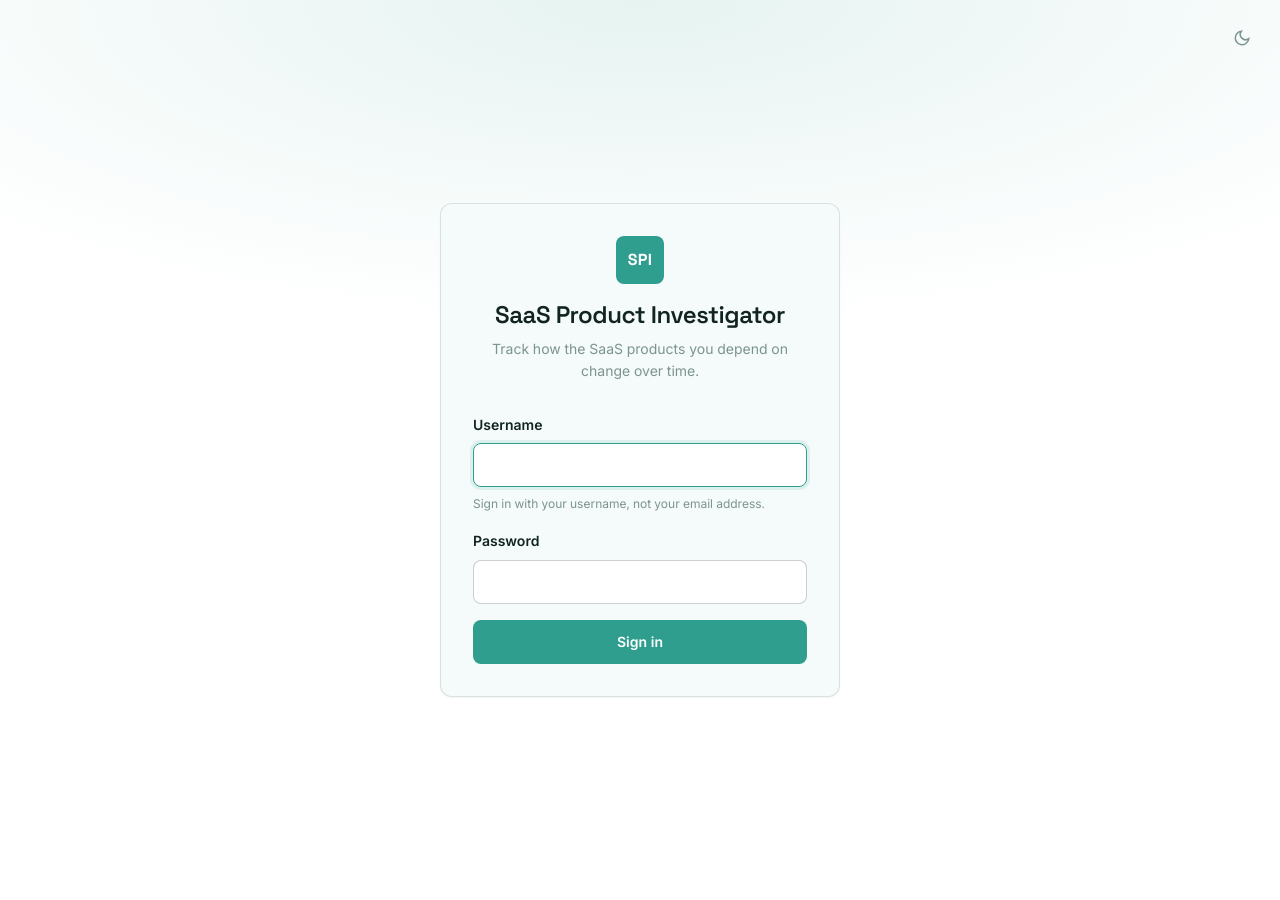
Test case: LoginPage › reports an unreachable backend in plain language
This screenshot has width=1280, height=900.
Type "admin" into the field labelled "Username".
click(640, 465); type("admin")  # box [473,443,807,487]
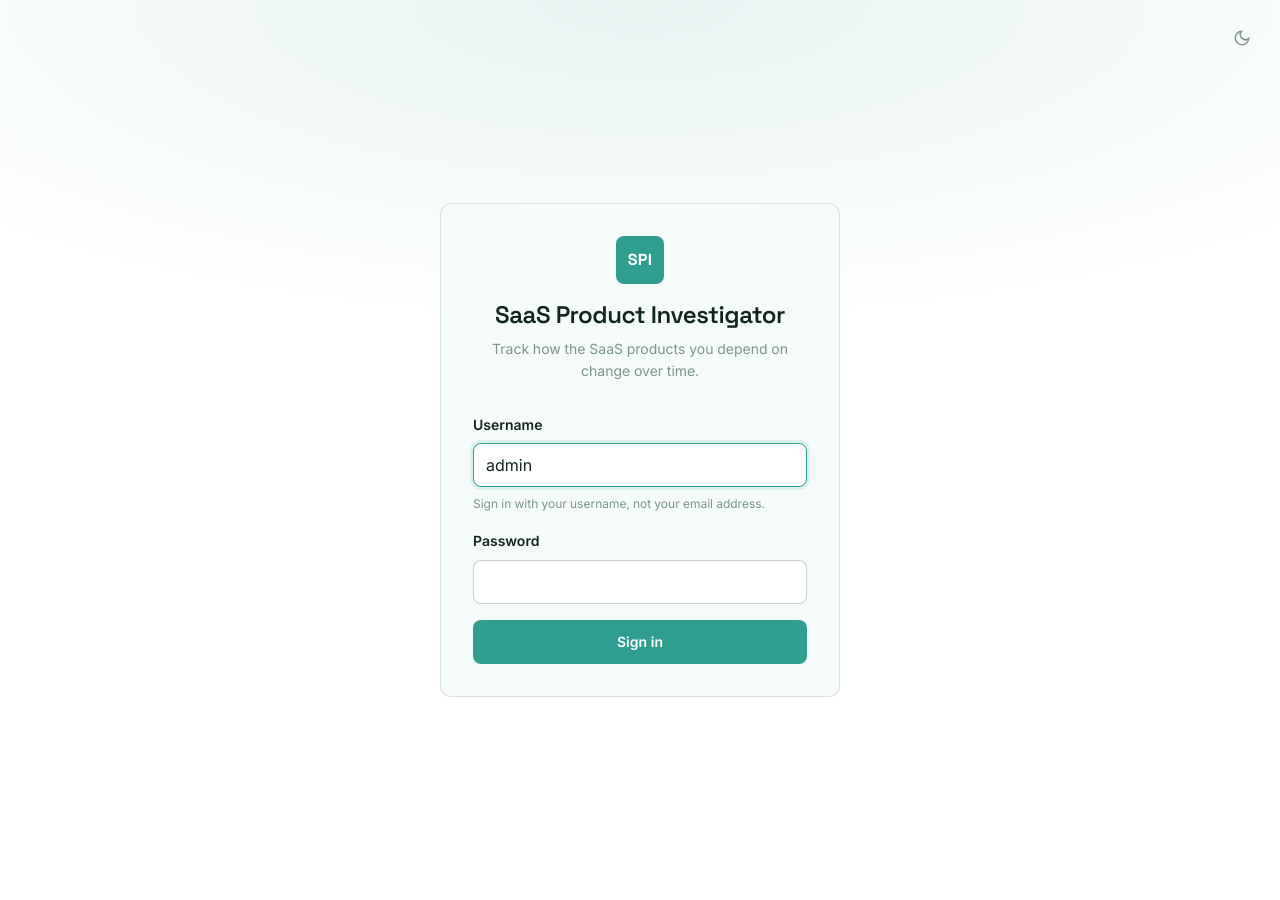
Type "admin" into the password field labelled "Password".
click(640, 582); type("admin")  # box [473,560,807,604]
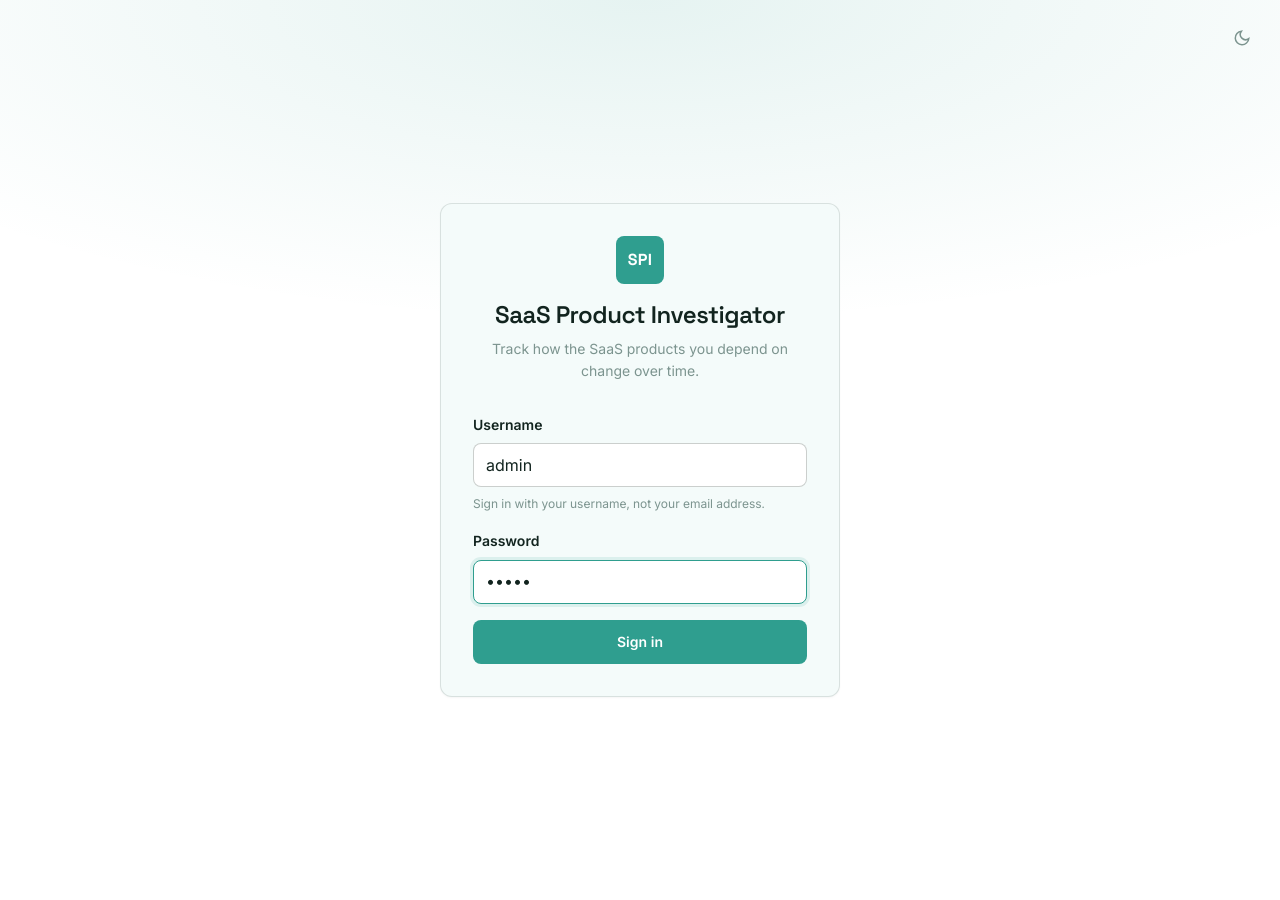
Click the button "Sign in".
click(640, 642)  # box [473,620,807,664]
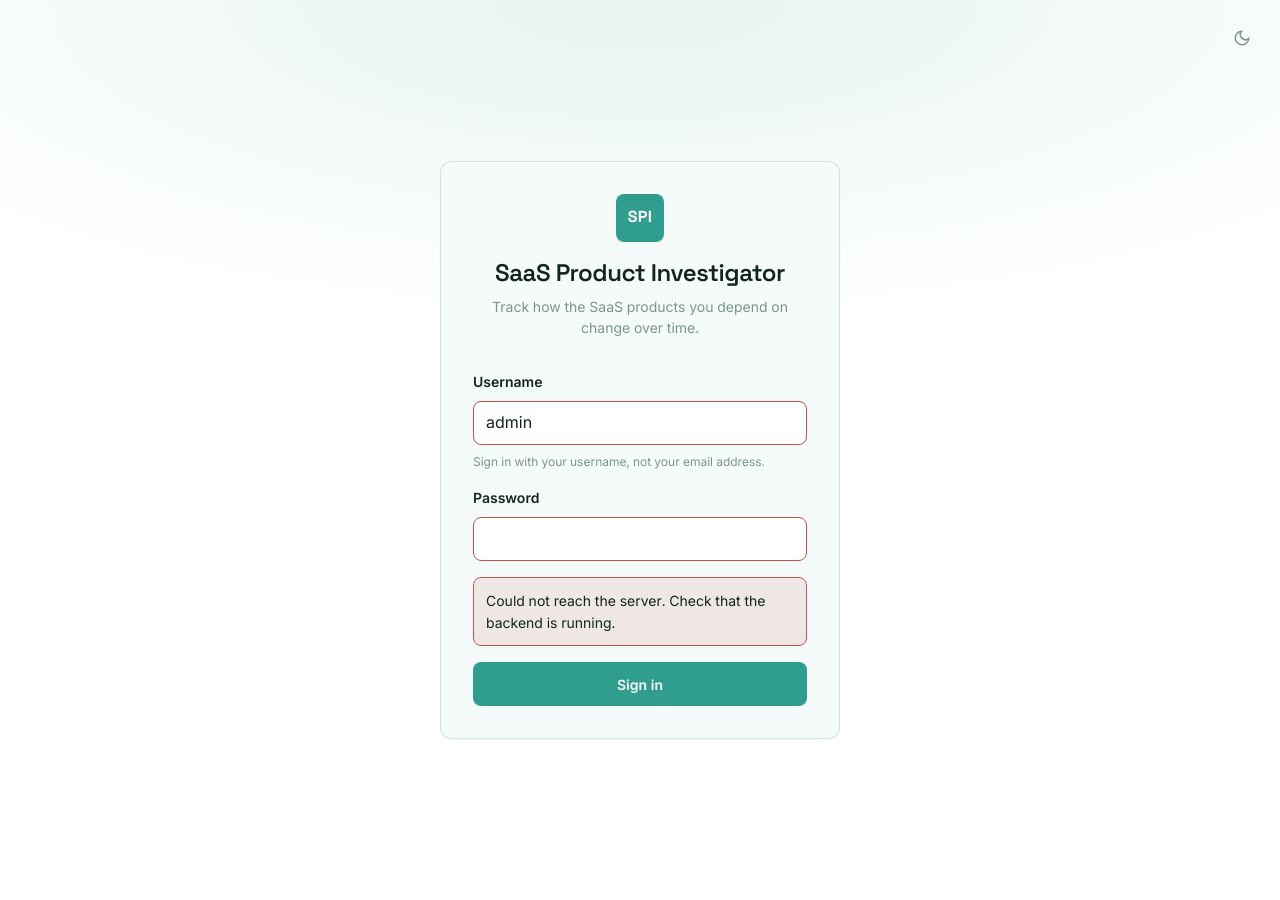
Expected: the message reads "Could not reach the server. Check that the backend is running.", [486,592,765,631]
